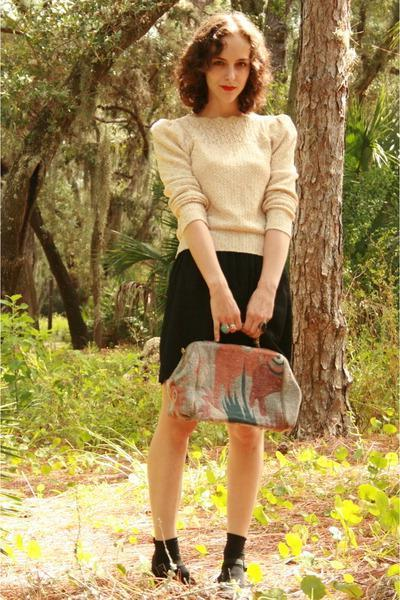skirt: (156, 251, 293, 383)
sweater: (148, 110, 303, 255)
